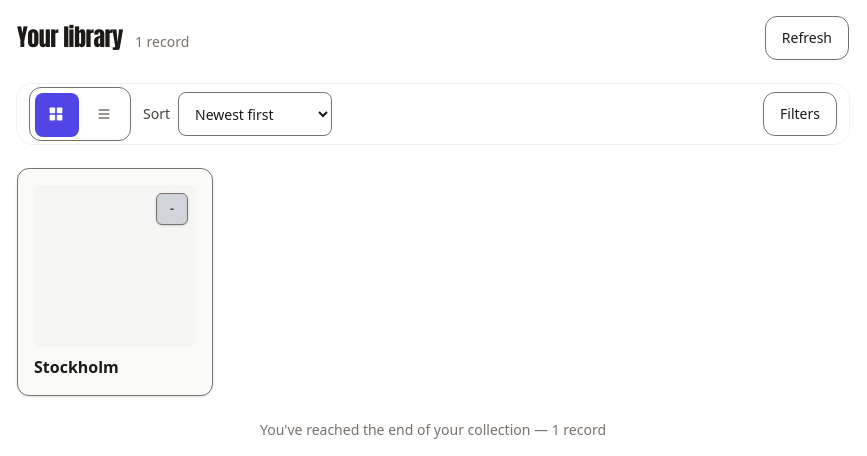
Test: View mode toggle (feature 052, US1) › switches from grid to list without losing already-loaded records or changing refresh behavior
Expected: the text "Stockholm" is shown, [34,356,119,378]
Expected: the list with test id "library-record-grid" is shown, [17,168,213,396]
Click the radio button with test id "view-mode-list" at x=104, y=114, box [82,92,126,136]
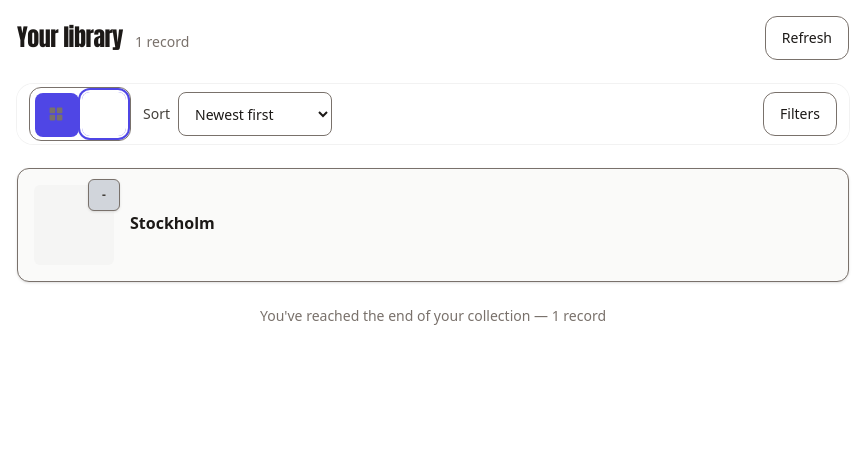
Expected: the text "Stockholm" is shown, [130,211,215,235]
Expected: the list with test id "library-record-list" is shown, [17,168,849,282]
